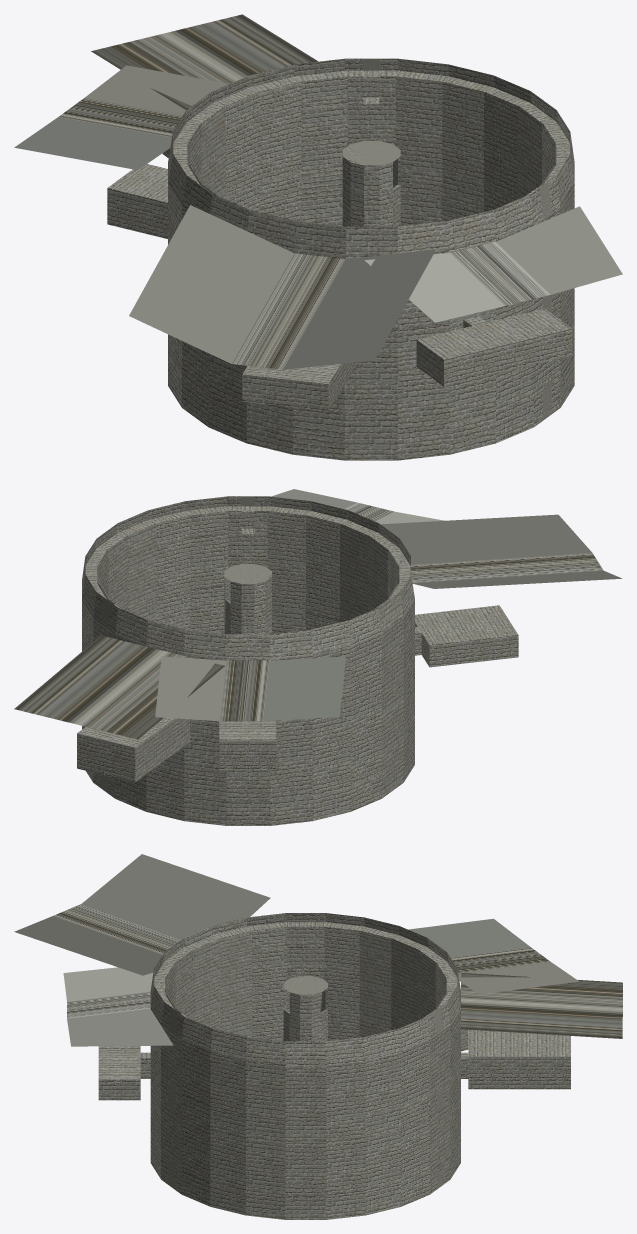
File: map.obj
3 renders of one model, top to bottom at view 1: azimuth 30°, elevation 25°; view 2: azimuth 150°, elevation 25°; view 3: azimuth 270°, elevation 25°, orthographic. The views are drawn at different scales.
Visible parts, largest first — view 1: Map_Outer, Map_Base; view 2: Map_Outer, Map_Base; view 3: Map_Outer, Map_Base.
Part boxes in pixels (x1,y1,x2,y2): Map_Outer: (14, 14, 622, 460); Map_Base: (107, 70, 571, 411); Map_Outer: (14, 489, 621, 825); Map_Base: (77, 506, 518, 782); Map_Outer: (14, 854, 622, 1219); Map_Base: (98, 922, 570, 1100).
Size of the model in its own units: 243 by 104 by 319.
